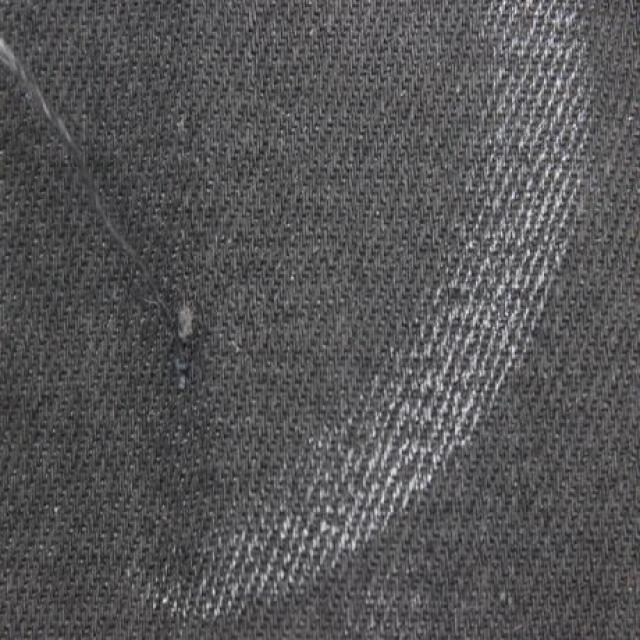stains: (16, 42, 231, 440)
